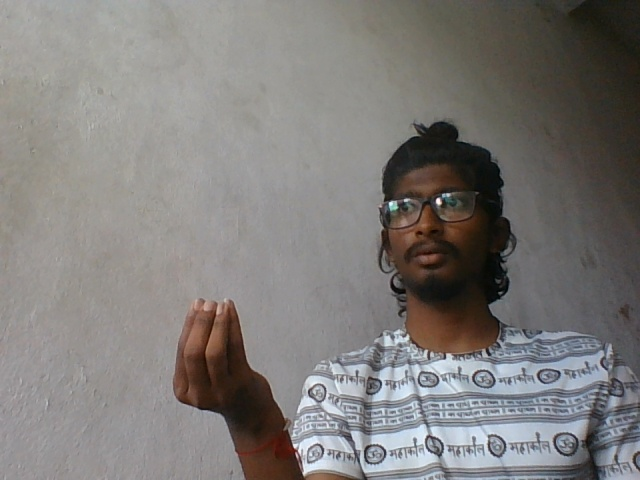Please: (164, 292, 299, 433)
